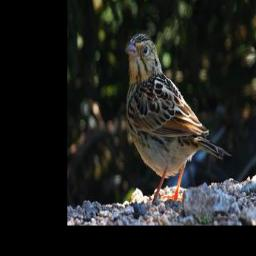Sparrow: (120, 26, 234, 206)
